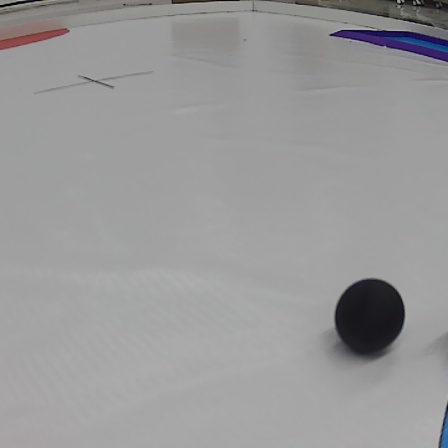black: (330, 273, 408, 358)
blue_aim: (330, 29, 448, 76)
red_base: (0, 25, 69, 50)
